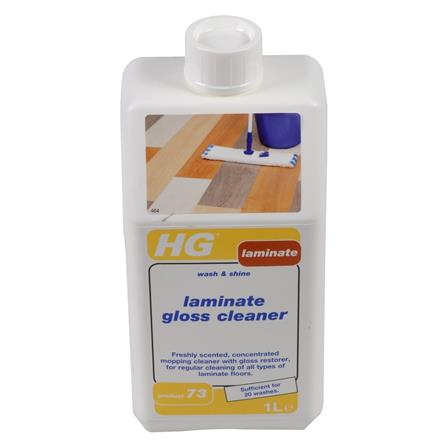Cleaning_solution: (113, 9, 336, 443)
